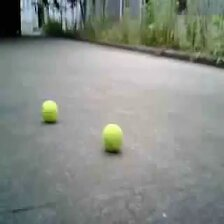tennis: (102, 124, 123, 149), (40, 100, 57, 122)
